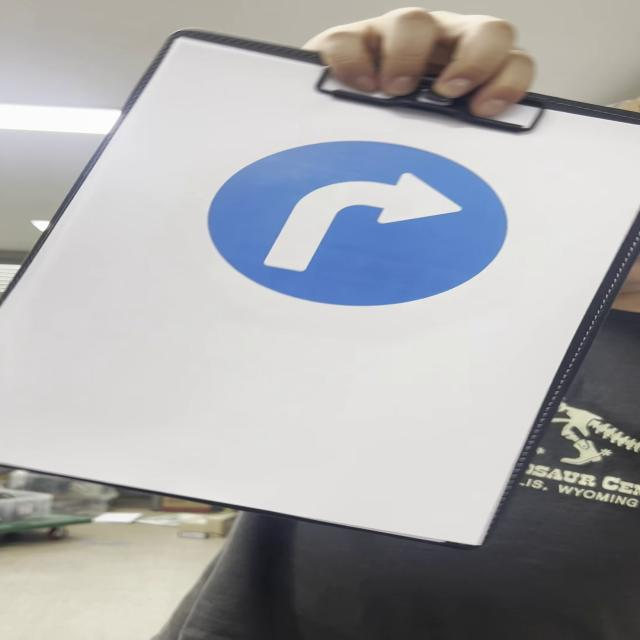right: (203, 141, 513, 314)
